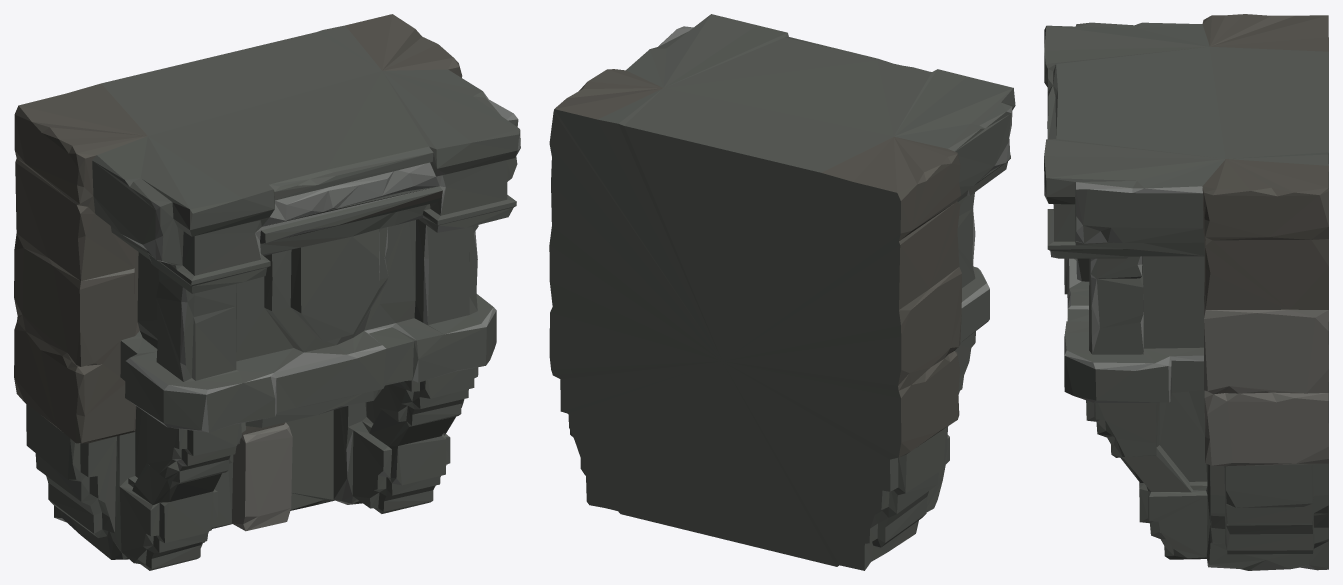
File: MDungeon_GiantPillar_Top.FBX
3 renders of one model, left to right at view 1: azimuth 30°, elevation 25°; view 2: azimuth 150°, elevation 25°; view 3: azimuth 270°, elevation 25°, orthographic. The views are drawn at different scales.
Parts seen in each view (by area): view 1: MDungeon_GiantPillar_Top_LOD0; view 2: MDungeon_GiantPillar_Top_LOD0; view 3: MDungeon_GiantPillar_Top_LOD0.
Boxes of the visible parts, x1,y1,x2,y2 form: MDungeon_GiantPillar_Top_LOD0: (14, 14, 520, 570); MDungeon_GiantPillar_Top_LOD0: (549, 14, 1015, 570); MDungeon_GiantPillar_Top_LOD0: (1044, 14, 1328, 570).
Size of what is drawn, in the model's own units: 6.58 by 7 by 4.47.
